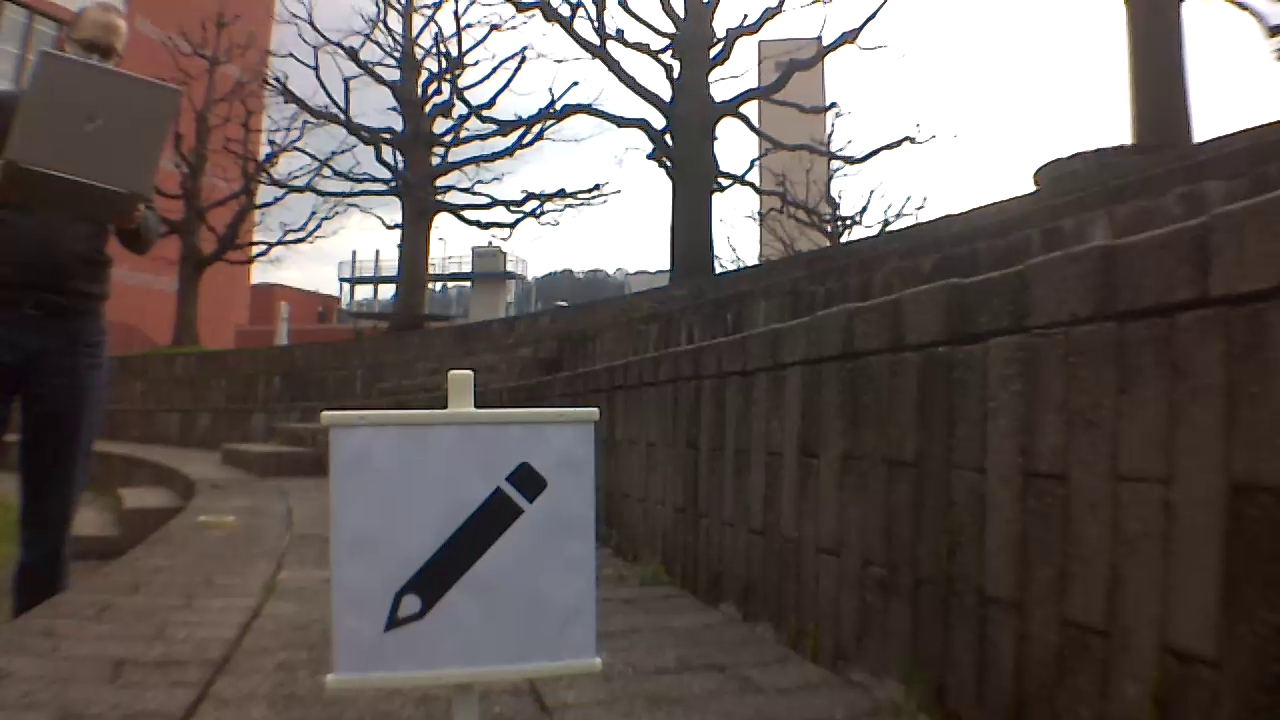pencil: (384, 457, 555, 635)
